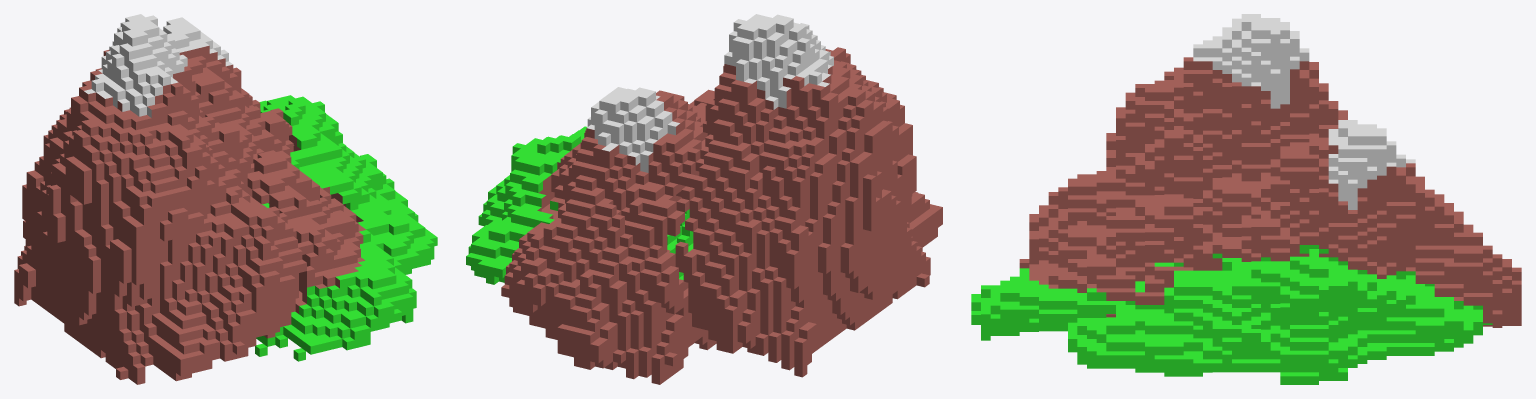
Rendered from Mountain by Poly by Google - 7Jhw3p6TusU.glb.
The picture shows the model from 3 angles, left to right: view 1: azimuth 30°, elevation 25°; view 2: azimuth 150°, elevation 25°; view 3: azimuth 270°, elevation 25°; orthographic projection. The views are drawn at different scales.
Parts seen in each view (by area): view 1: Sphere005_Voxelized; view 2: Sphere005_Voxelized; view 3: Sphere005_Voxelized.
Boxes of the visible parts, x1,y1,x2,y2 form: Sphere005_Voxelized: (14,14,437,384); Sphere005_Voxelized: (466,14,942,384); Sphere005_Voxelized: (971,14,1521,384).
Bounding box in the file's own units: 165159 × 134444 × 218931.
